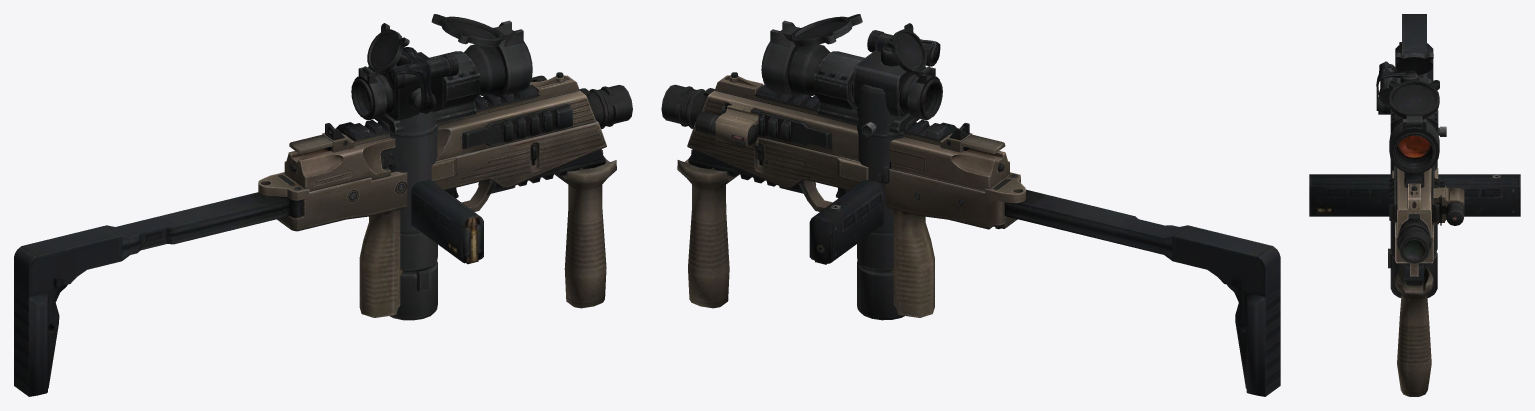
Rendered from MP9_Ext.obj.
3 views of the same model, side by side, from view 1: azimuth 30°, elevation 25°; view 2: azimuth 150°, elevation 25°; view 3: azimuth 270°, elevation 25° (orthographic). The views are drawn at different scales.
Parts seen in each view (by area): view 1: MP9_EXT, MP9_EXT_APoint-Dot-Sight, MP9_EXT_Silencer, MP9_EXT_Magazine; view 2: MP9_EXT, MP9_EXT_APoint-Dot-Sight, MP9_EXT_Silencer, MP9_EXT_Magazine, MP9_EXT_LaserSight; view 3: MP9_EXT, MP9_EXT_Magazine, MP9_EXT_APoint-Dot-Sight, MP9_EXT_LaserSight, MP9_EXT_Silencer.
Boxes of the visible parts, bbox=[...] form: MP9_EXT: bbox=[14, 72, 632, 396]; MP9_EXT_APoint-Dot-Sight: bbox=[351, 14, 532, 134]; MP9_EXT_Silencer: bbox=[384, 111, 437, 320]; MP9_EXT_Magazine: bbox=[336, 122, 483, 264]; MP9_EXT: bbox=[661, 72, 1280, 396]; MP9_EXT_APoint-Dot-Sight: bbox=[761, 14, 942, 137]; MP9_EXT_Silencer: bbox=[857, 84, 909, 320]; MP9_EXT_Magazine: bbox=[809, 122, 957, 264]; MP9_EXT_LaserSight: bbox=[695, 101, 762, 148]; MP9_EXT: bbox=[1389, 14, 1439, 396]; MP9_EXT_Magazine: bbox=[1309, 174, 1520, 216]; MP9_EXT_APoint-Dot-Sight: bbox=[1376, 52, 1446, 174]; MP9_EXT_LaserSight: bbox=[1433, 182, 1464, 225]; MP9_EXT_Silencer: bbox=[1388, 159, 1437, 297].
Bounding box in the file's own units: 0.4868 × 0.2459 × 0.1794.
4 materials, 4 textured.
